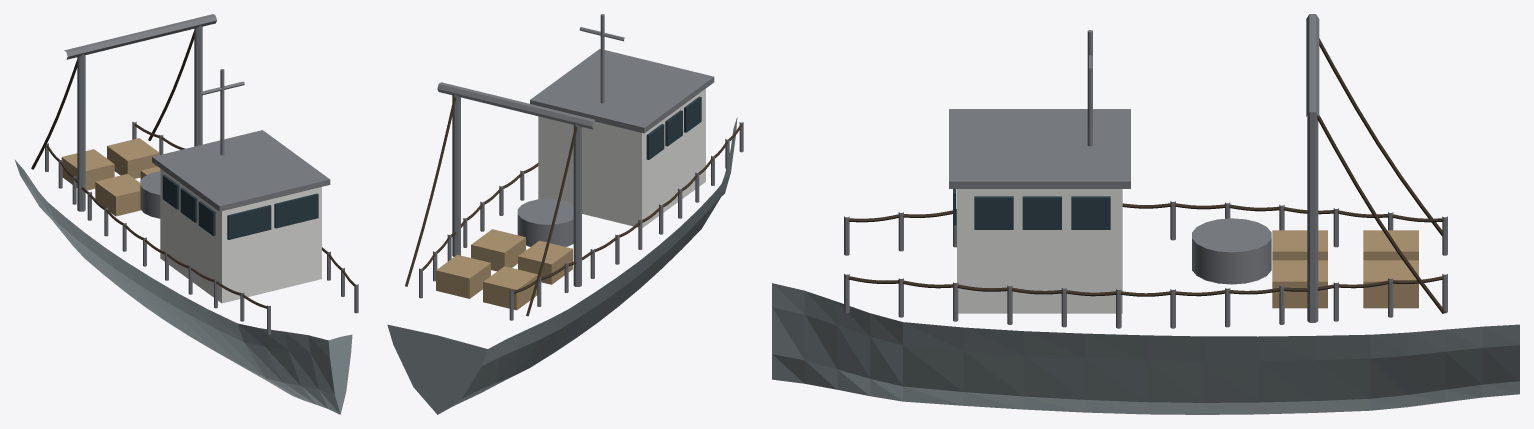
Rendered from fishing-boat.gltf.
3 renders of one model, left to right at view 1: azimuth 30°, elevation 25°; view 2: azimuth 150°, elevation 25°; view 3: azimuth 270°, elevation 25°, orthographic. The views are drawn at different scales.
Visible parts, largest first — view 1: fishing-boat-wheelhouse, fishing-boat-hull, fishing-boat-fishing-gantry; view 2: fishing-boat-wheelhouse, fishing-boat-fishing-gantry, fishing-boat-hull; view 3: fishing-boat-hull, fishing-boat-wheelhouse, fishing-boat-fishing-gantry.
Boxes of the visible parts, box(x1,y1,x2,y2) form: fishing-boat-wheelhouse: box(45, 69, 358, 334); fishing-boat-hull: box(14, 159, 352, 414); fishing-boat-fishing-gantry: box(31, 14, 355, 308); fishing-boat-wheelhouse: box(419, 14, 743, 320); fishing-boat-fishing-gantry: box(405, 82, 742, 316); fishing-boat-hull: box(387, 117, 737, 414); fishing-boat-hull: box(772, 283, 1519, 414); fishing-boat-wheelhouse: box(844, 30, 1447, 328); fishing-boat-fishing-gantry: box(848, 14, 1445, 322).
Size of the model in its own units: 2.34 by 4.19 by 7.4.
